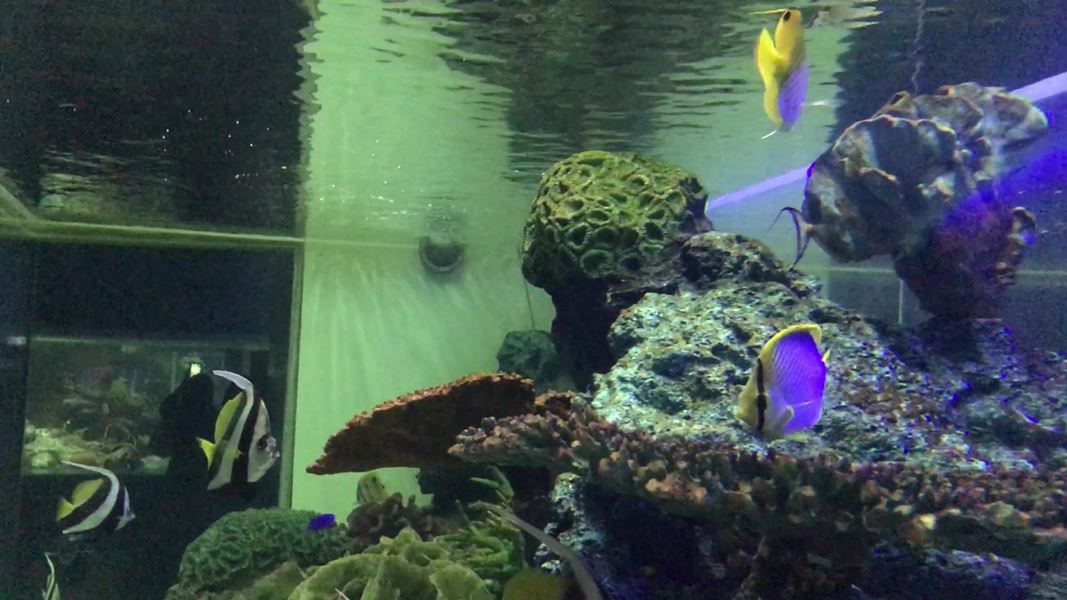Black-backed butterflyfish: (725, 314, 847, 454)
